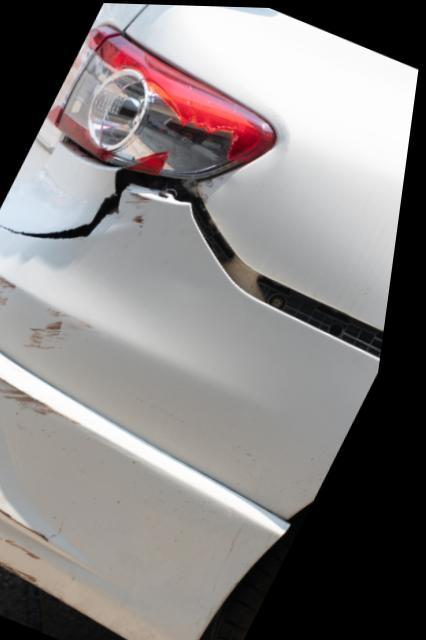crack: (0, 168, 135, 240)
dislocated part: (132, 168, 393, 365)
lamp broken: (58, 32, 277, 180)
scratch: (0, 368, 90, 579), (31, 304, 106, 352), (133, 188, 157, 233), (0, 273, 23, 318)
